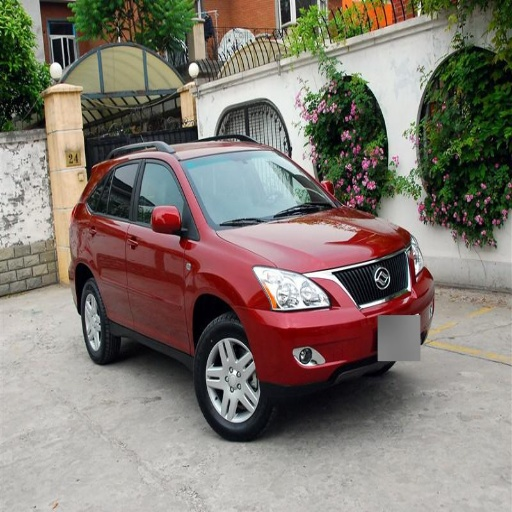back_left_light: (89, 156, 142, 326)
back_right_light: (247, 249, 430, 387)
front_bumper: (184, 150, 334, 228)
front_left_light: (127, 155, 190, 348)
front_right_door: (253, 265, 333, 309)
front_right_light: (217, 206, 410, 272)
trunk: (197, 315, 275, 440), (79, 277, 118, 364)
